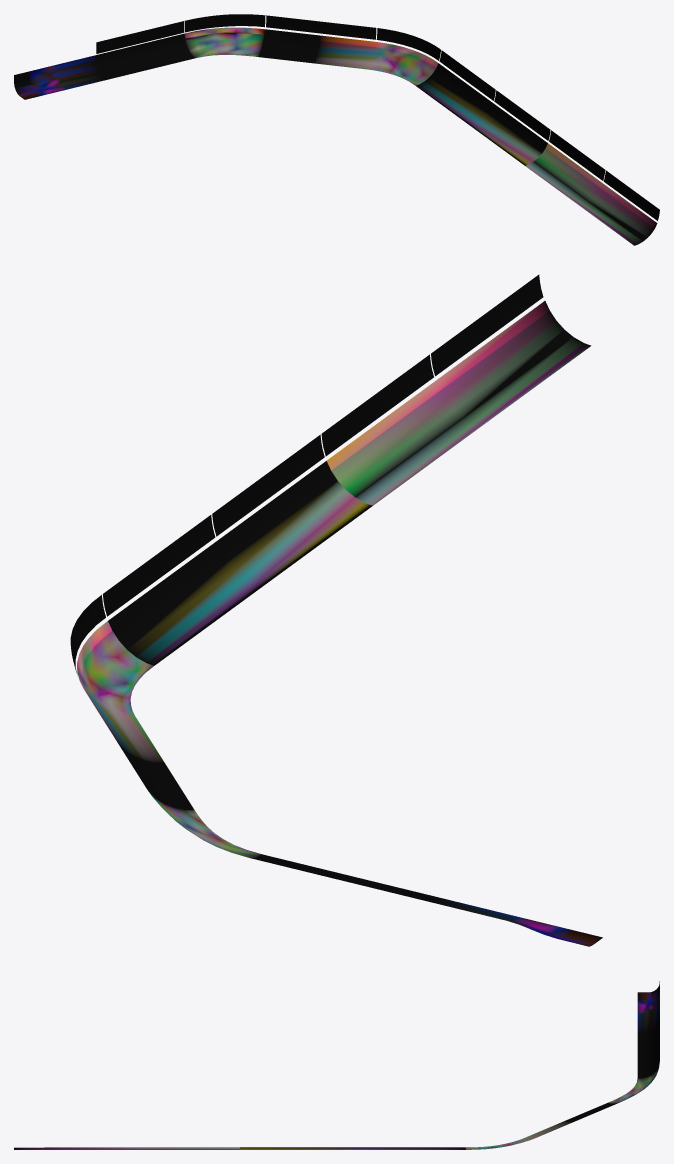
The model's file is Woods_Field_Ramps.gltf.
3 renders of one model, top to bottom at view 1: azimuth 30°, elevation 25°; view 2: azimuth 150°, elevation 25°; view 3: azimuth 270°, elevation 25°, orthographic. The views are drawn at different scales.
Parts seen in each view (by area): view 1: Woods_Field_Ramps; view 2: Woods_Field_Ramps; view 3: Woods_Field_Ramps.
Boxes of the visible parts, <box> form: Woods_Field_Ramps: <box>14,14,659,245</box>; Woods_Field_Ramps: <box>70,274,602,946</box>; Woods_Field_Ramps: <box>14,981,659,1149</box>.
Size of the model in its own units: 31.54 by 2.67 by 51.2.
